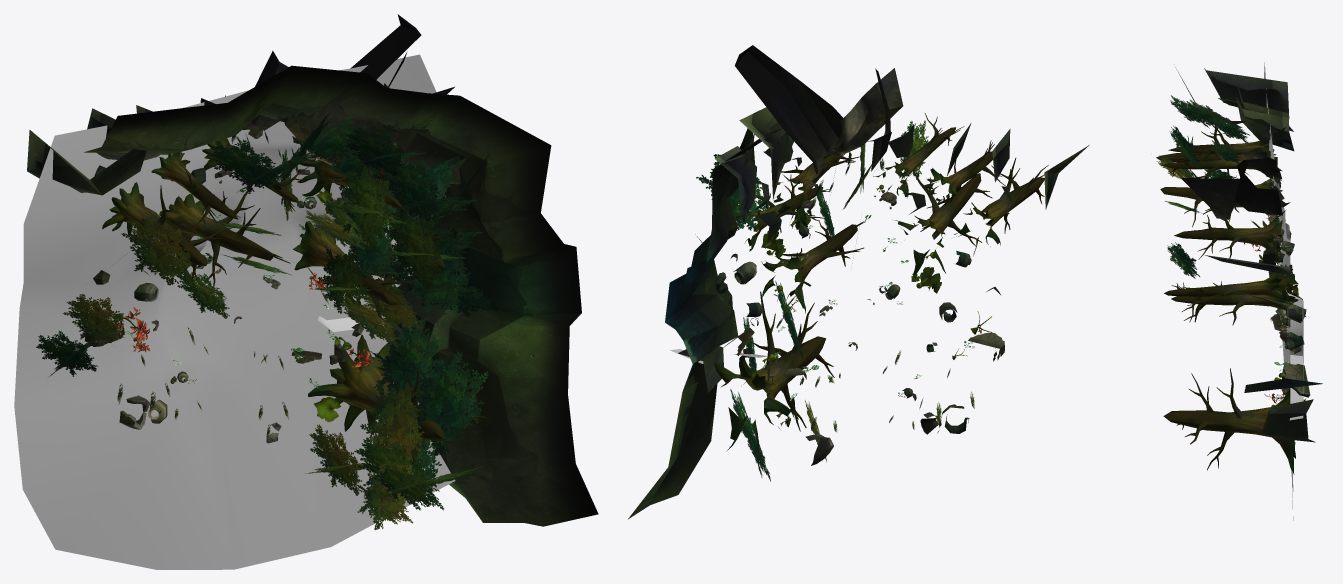
3 renders of one model, left to right at view 1: azimuth 30°, elevation 25°; view 2: azimuth 150°, elevation 25°; view 3: azimuth 270°, elevation 25°, orthographic. The views are drawn at different scales.
Visible parts, largest first — view 1: BackSide_0.005, BackSide_0, BackSide_0.013, BackSide_0.022, BackSide_0.019, BackSide_0.020, BackSide_0.001, BackSide_0.018, BackSide_0.011, BackSide_0.014, BackSide_0.012, BackSide_0.017; view 2: BackSide_0.022, BackSide_0, BackSide_0.018, BackSide_0.001, BackSide_0.013, BackSide_0.011, BackSide_0.017, BackSide_0.012, BackSide_0.020, BackSide_0.008, BackSide_0.006; view 3: BackSide_0.022, BackSide_0.001, BackSide_0.018, BackSide_0.013, BackSide_0.005, BackSide_0, BackSide_0.011, BackSide_0.012, BackSide_0.006, BackSide_0.019, BackSide_0.014.
Part boxes in pixels (bbox=[...]): BackSide_0.005: bbox=[14, 54, 455, 569]; BackSide_0: bbox=[84, 65, 598, 526]; BackSide_0.013: bbox=[36, 114, 499, 512]; BackSide_0.022: bbox=[102, 138, 487, 469]; BackSide_0.019: bbox=[63, 210, 424, 529]; BackSide_0.020: bbox=[175, 149, 482, 506]; BackSide_0.001: bbox=[27, 83, 466, 357]; BackSide_0.018: bbox=[251, 14, 454, 166]; BackSide_0.011: bbox=[119, 237, 355, 429]; BackSide_0.014: bbox=[116, 219, 373, 371]; BackSide_0.012: bbox=[85, 156, 374, 363]; BackSide_0.017: bbox=[166, 190, 351, 422]; BackSide_0.022: bbox=[714, 113, 1048, 458]; BackSide_0: bbox=[628, 128, 891, 519]; BackSide_0.018: bbox=[734, 45, 903, 174]; BackSide_0.001: bbox=[678, 107, 1089, 401]; BackSide_0.013: bbox=[696, 154, 835, 481]; BackSide_0.011: bbox=[733, 261, 969, 433]; BackSide_0.017: bbox=[761, 210, 941, 427]; BackSide_0.012: bbox=[712, 184, 1004, 385]; BackSide_0.020: bbox=[831, 120, 928, 258]; BackSide_0.008: bbox=[805, 299, 941, 465]; BackSide_0.006: bbox=[714, 226, 971, 316]; BackSide_0.022: bbox=[1156, 117, 1305, 474]; BackSide_0.001: bbox=[1204, 68, 1315, 442]; BackSide_0.018: bbox=[1180, 147, 1282, 219]; BackSide_0.013: bbox=[1167, 95, 1260, 278]; BackSide_0.005: bbox=[1264, 62, 1303, 520]; BackSide_0: bbox=[1175, 67, 1322, 392]; BackSide_0.011: bbox=[1271, 230, 1306, 353]; BackSide_0.012: bbox=[1268, 215, 1310, 397]; BackSide_0.006: bbox=[1278, 184, 1304, 350]; BackSide_0.019: bbox=[1157, 155, 1248, 178]; BackSide_0.014: bbox=[1244, 215, 1289, 403].
Bounding box in the file's own units: 55.29 × 58.35 × 23.38.
